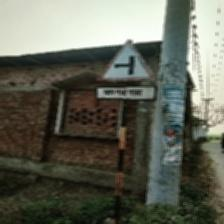Side-road-left: (97, 40, 157, 105)
